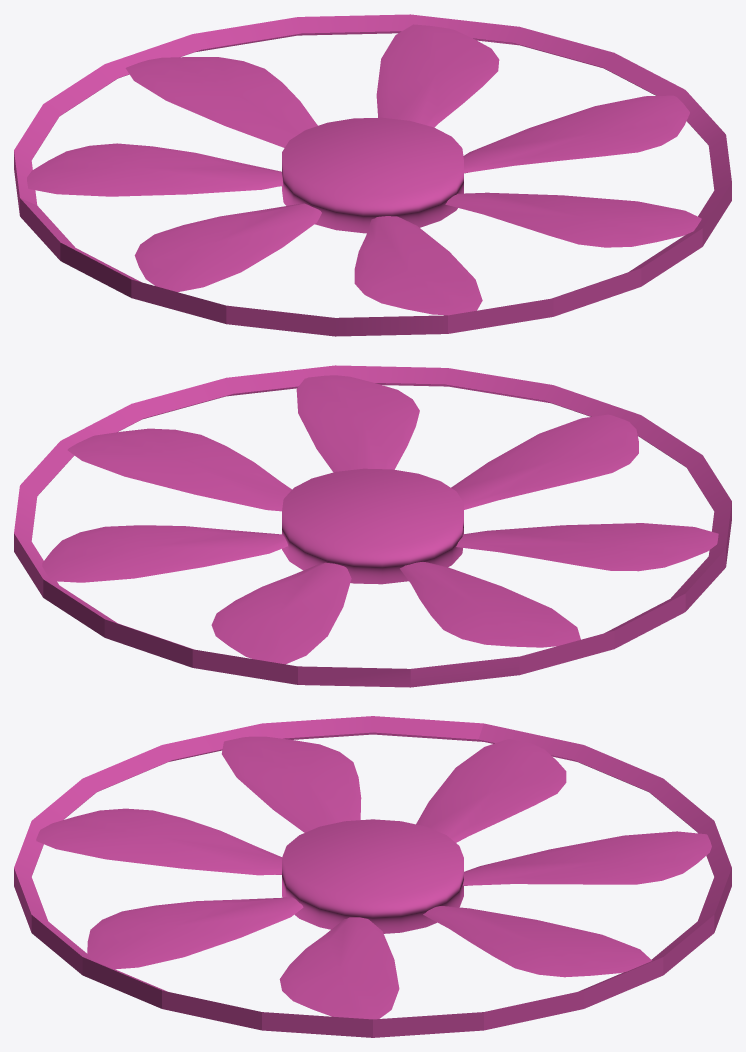
The picture shows the model from 3 angles, top to bottom: view 1: azimuth 30°, elevation 25°; view 2: azimuth 150°, elevation 25°; view 3: azimuth 270°, elevation 25°; orthographic projection.
Parts seen in each view (by area): view 1: Torus; view 2: Torus; view 3: Torus.
Part boxes in pixels (x1,y1,x2,y2): Torus: (14,14,731,336); Torus: (14,365,731,687); Torus: (14,716,731,1037).
Bounding box in the file's own units: 0.1655 × 0.00978 × 0.1655.
